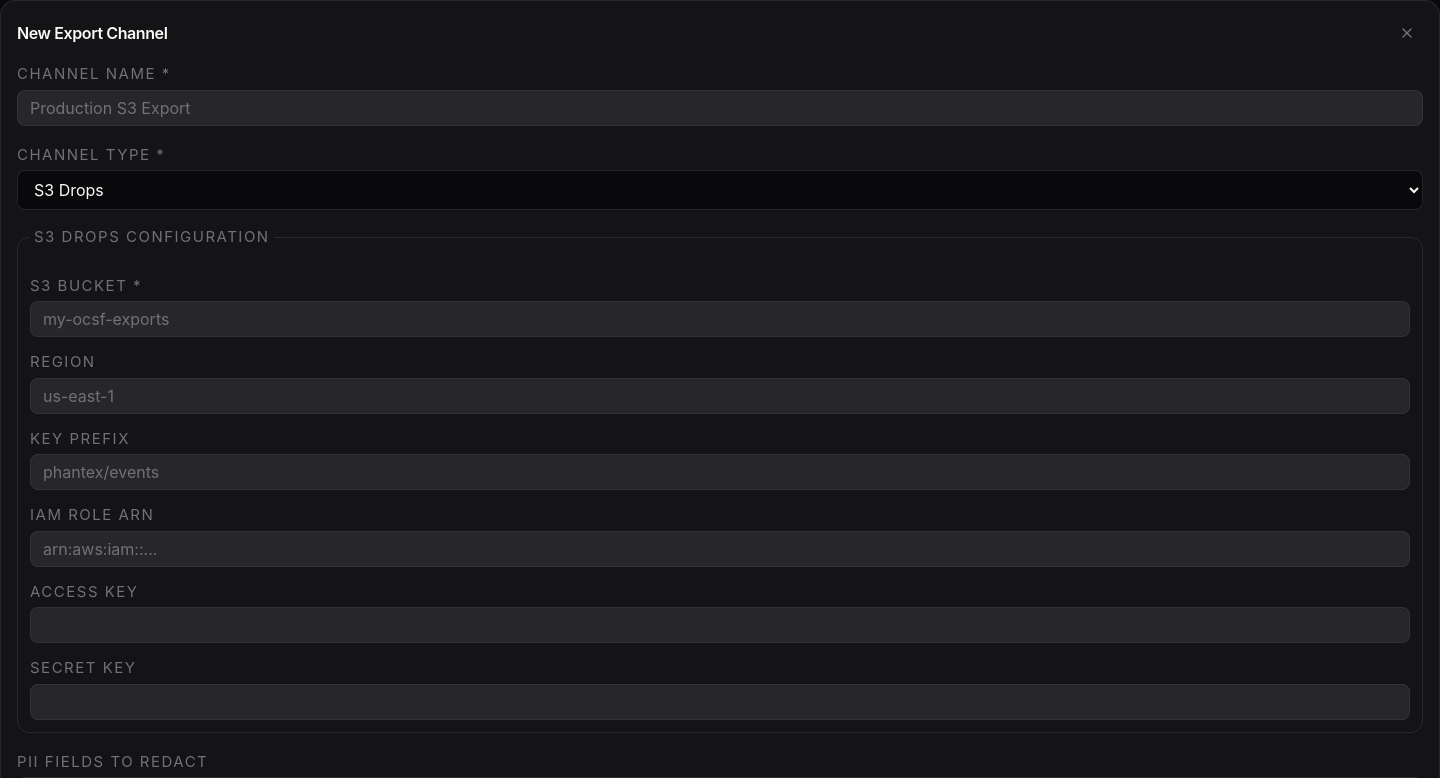
Test: ChannelForm › switches config fields when type changes
The width and height of the screenshot is (1440, 778).
// Switch to webhook
Select "Webhook Push" in the dropdown labelled "Channel Type *" at point(720, 190), box 17,170 -> 1423,210
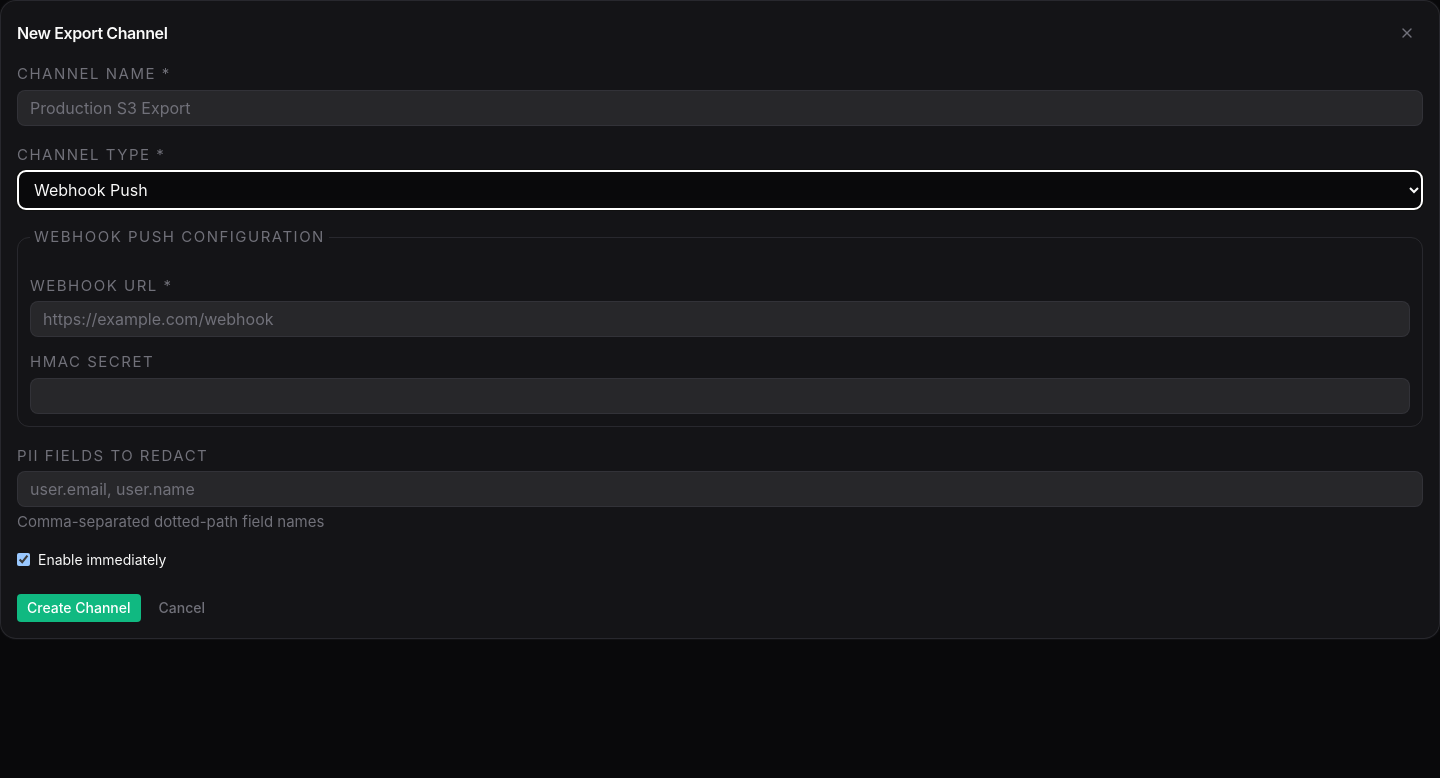
Now the field labelled "Webhook URL *" is shown, box 30,301 -> 1410,337
Now the password field labelled "HMAC Secret" is shown, box 30,378 -> 1410,414
Now the label labelled "S3 Bucket" is gone
// Switch to kafka
Select "Kafka Mirror" in the dropdown labelled "Channel Type *" at point(720, 190), box 17,170 -> 1423,210
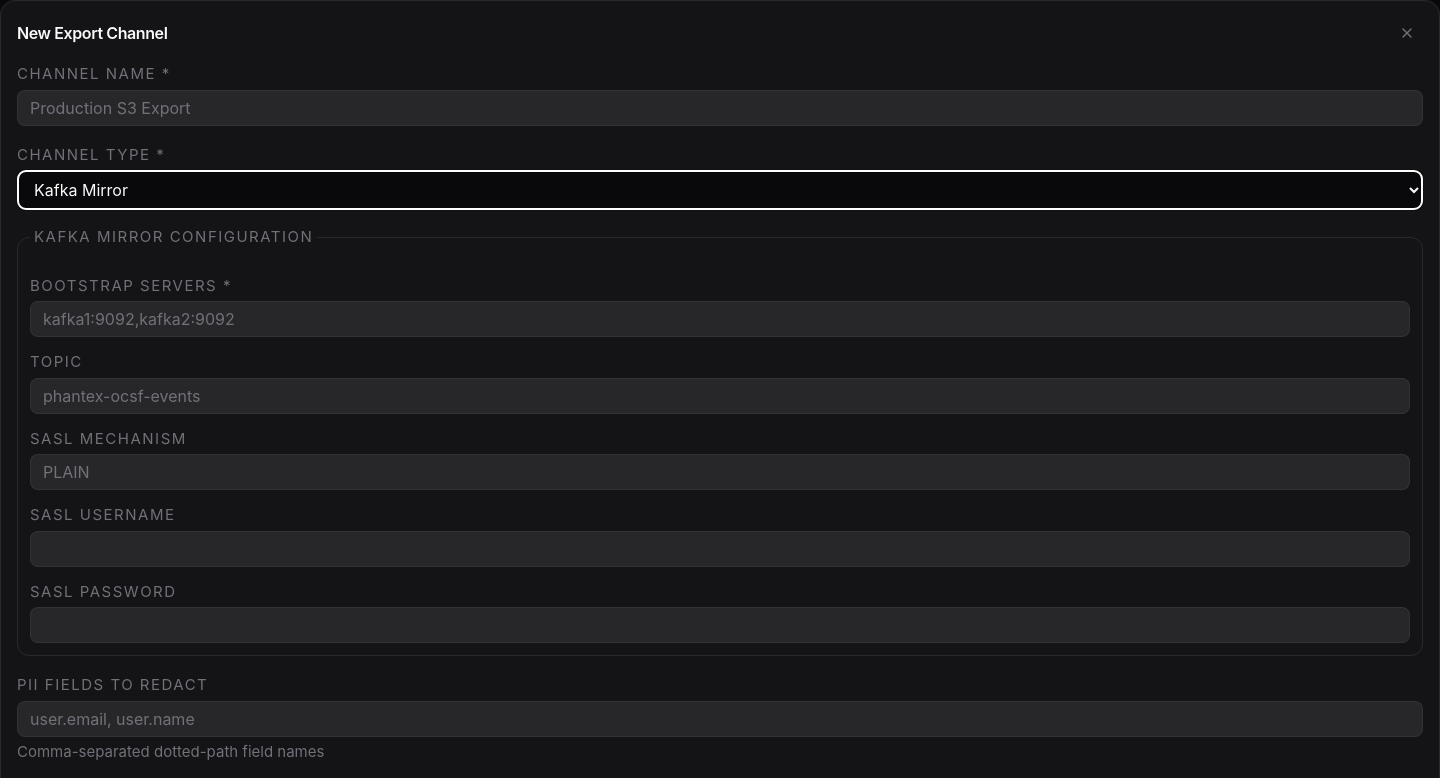
Now the field labelled "Bootstrap Servers *" is shown, box 30,301 -> 1410,337
Now the field labelled "Topic" is shown, box 30,378 -> 1410,414
Now the label labelled "Webhook URL" is gone
